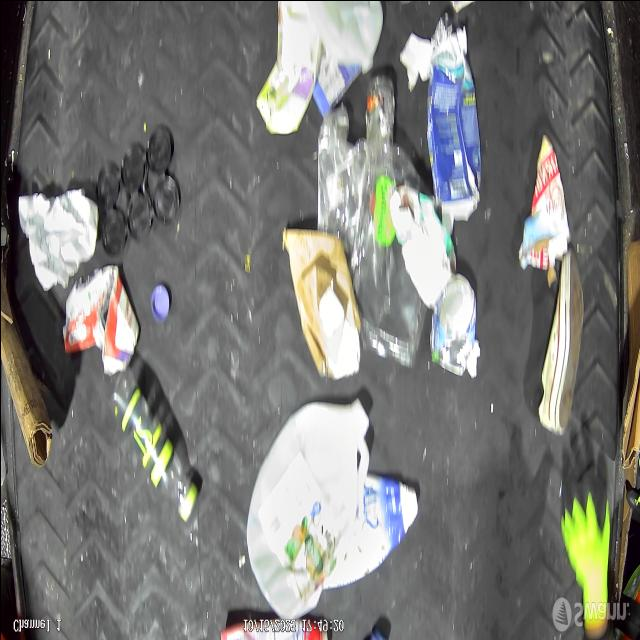can: (434, 272, 477, 378)
milk_jug: (245, 406, 372, 628)
plastic_bottle: (114, 376, 198, 516), (362, 76, 396, 260)
